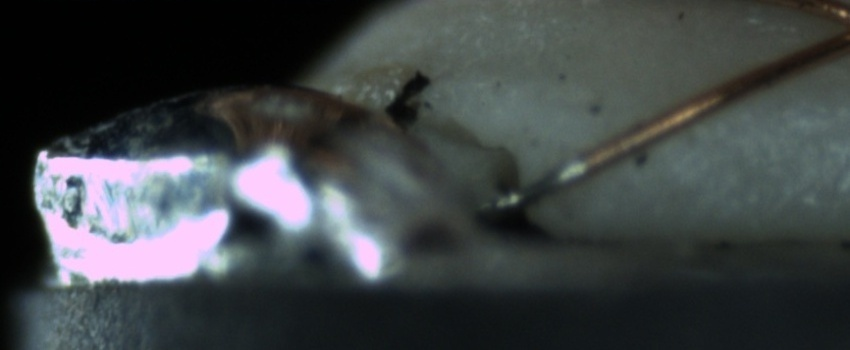TS: (495, 152, 595, 213)
TTCW: (482, 137, 610, 219)
